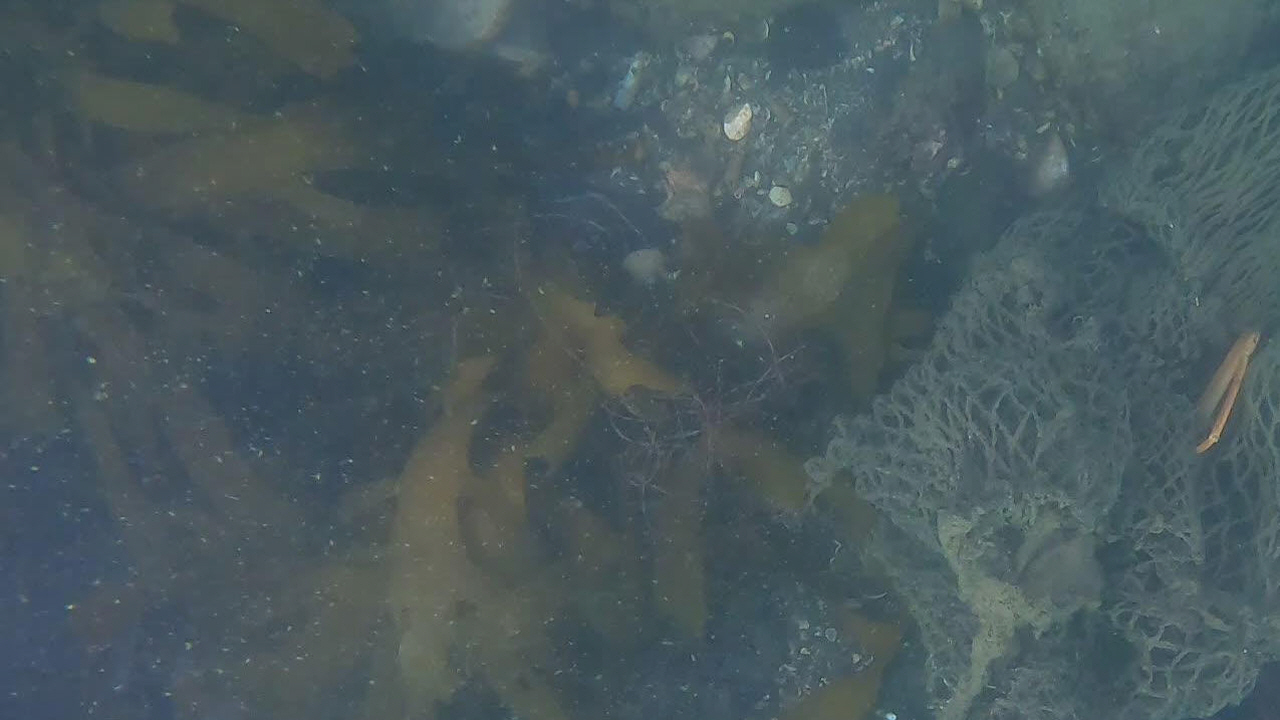fish net: (829, 68, 1279, 720)
